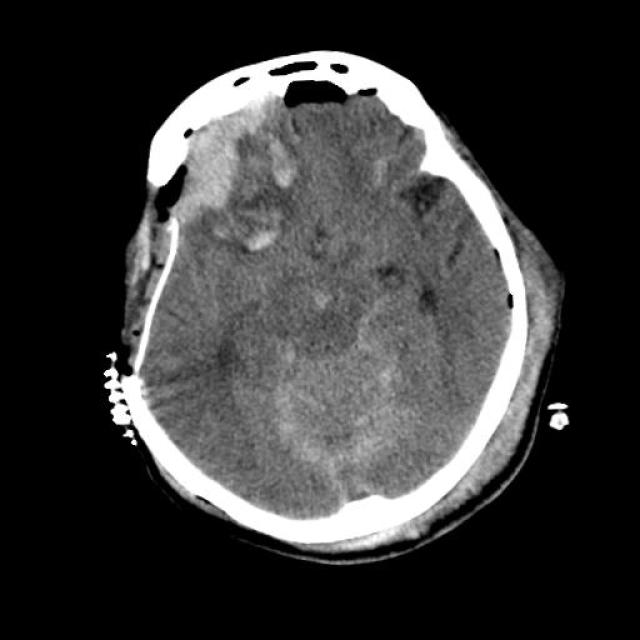Intraparenchymal: (246, 139, 323, 205), (230, 208, 308, 268)
Subarachnoid: (336, 298, 430, 387), (352, 148, 423, 241)
Subdural: (116, 72, 296, 238)
